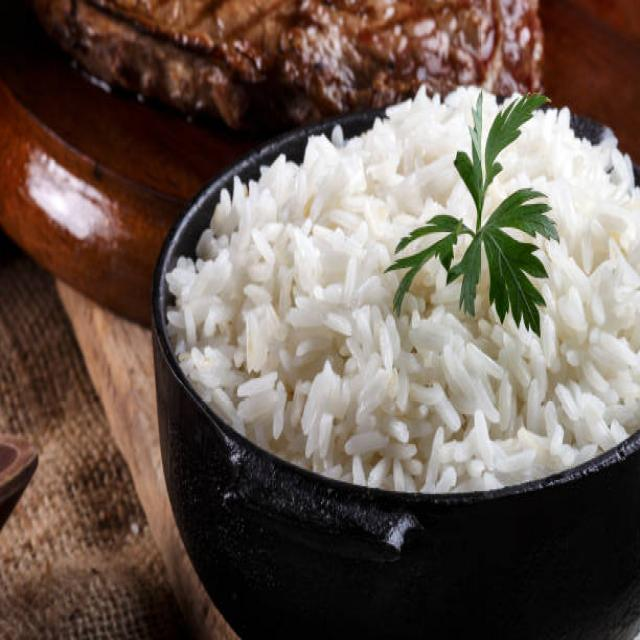rice: (164, 83, 640, 491)
